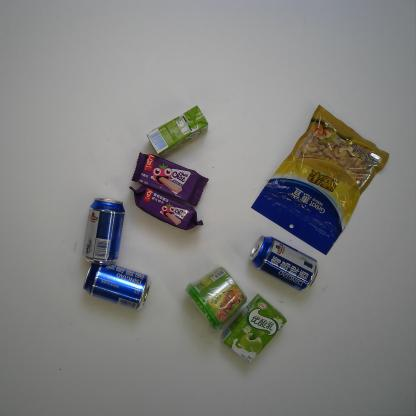Alcohol: (249, 235, 320, 293), (82, 262, 154, 312), (81, 198, 126, 266)
Dessert: (130, 151, 210, 207), (128, 185, 204, 231)
Dried Fruit: (251, 103, 391, 257)
Instant Drink: (183, 264, 249, 332)
Milk: (221, 293, 288, 364), (146, 105, 210, 158)
